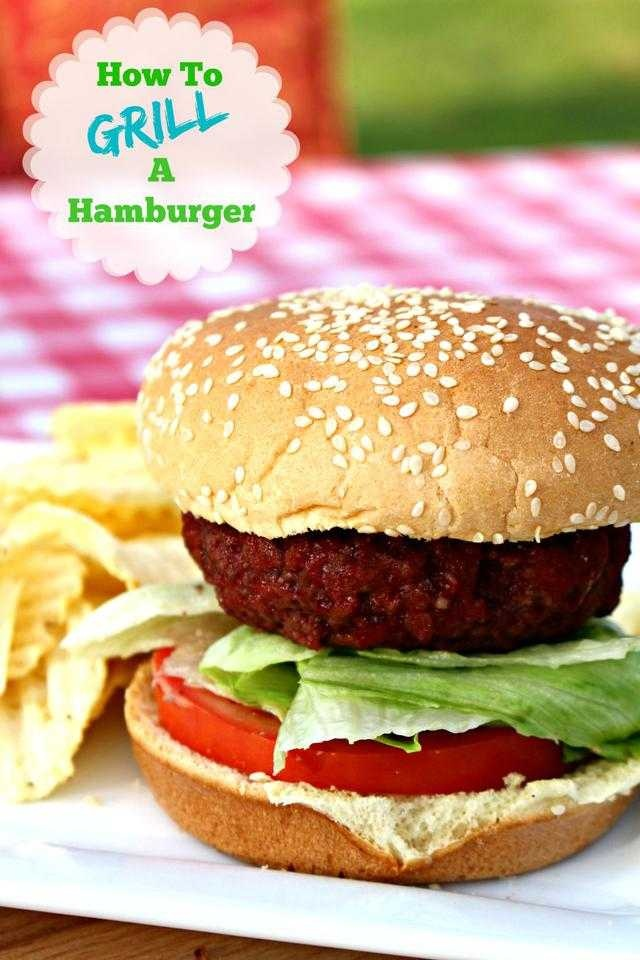hamburger: (107, 292, 640, 882)
